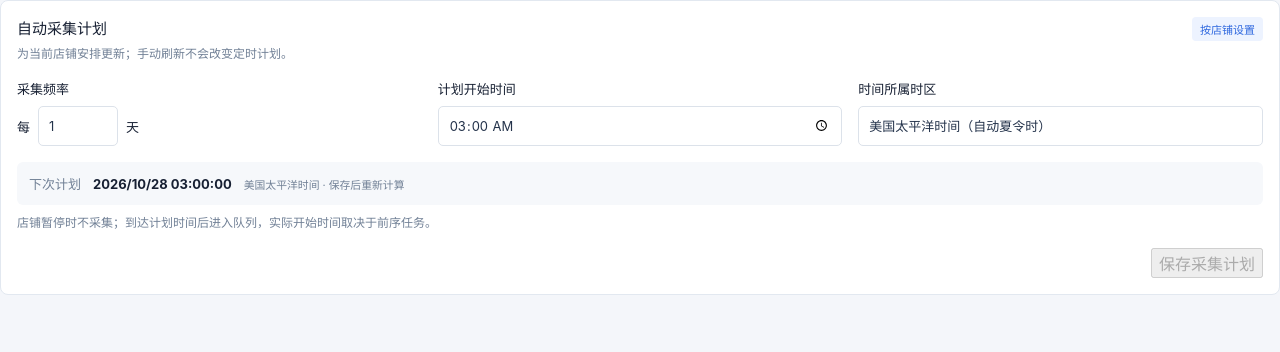
Scenario: store collection timing › persists interval time and zone with version and retains failed edits
Replace the text in the number field named "采集间隔天数" with "3": (78, 126) [38,106,118,146]
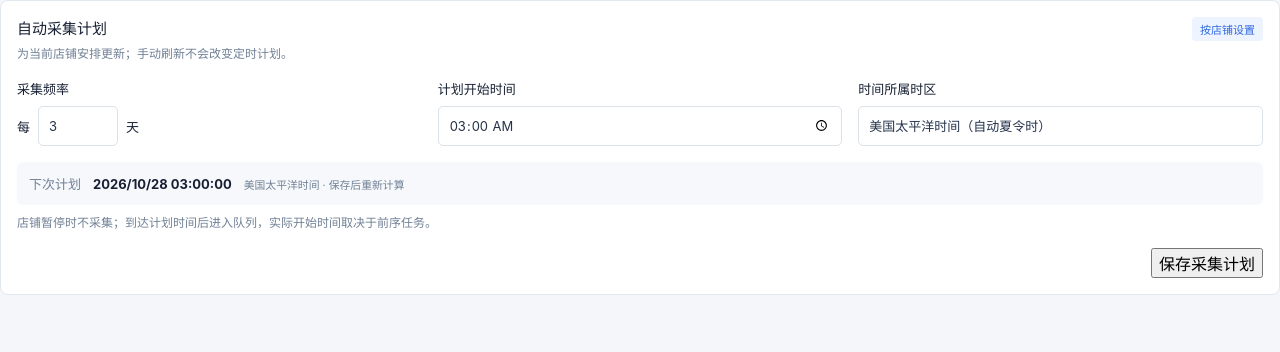
Replace the text in the time field labelled "计划开始时间" with "09:30": (640, 126) [438,106,842,146]
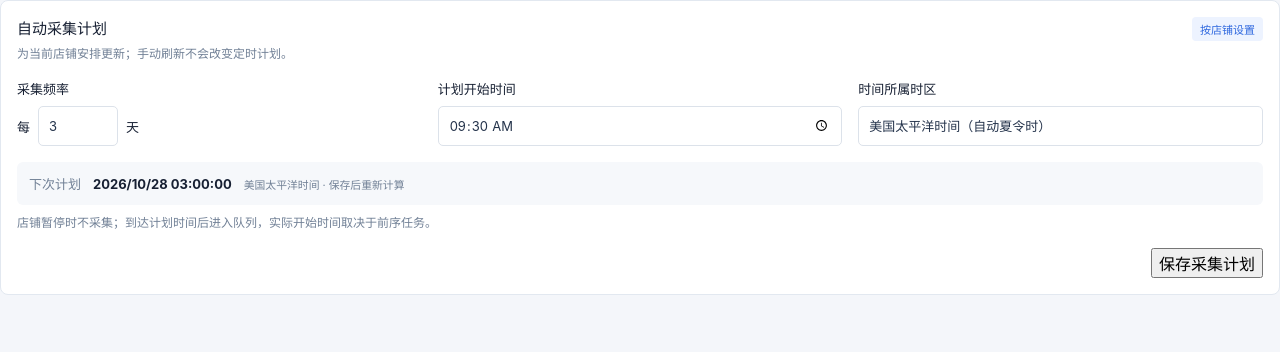
Select "北京时间" in the dropdown labelled "时间所属时区": (1061, 126) [858,106,1263,146]
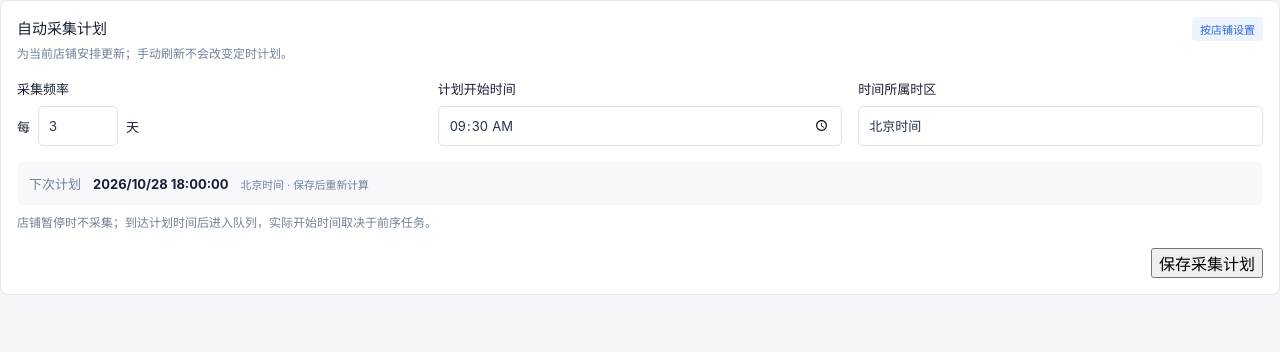
Submit the form, box [17,79,1263,278]
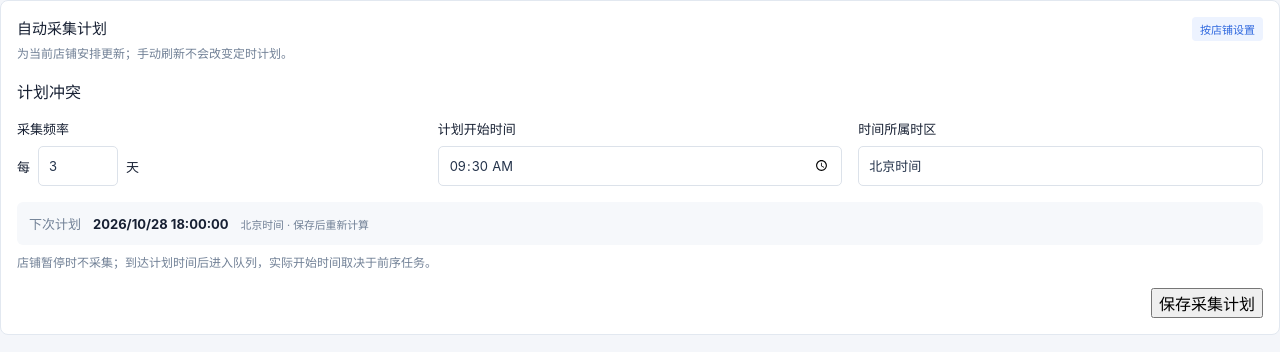
Result: the text "计划冲突" is shown at [17,82,81,102]
Submit the form, box [17,119,1263,318]
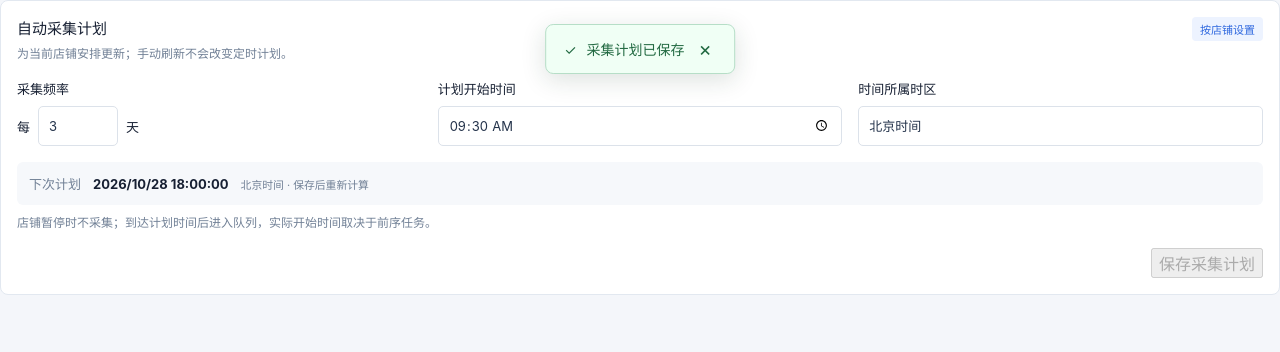
Result: the button "保存采集计划" is disabled at [1151,248,1263,278]
